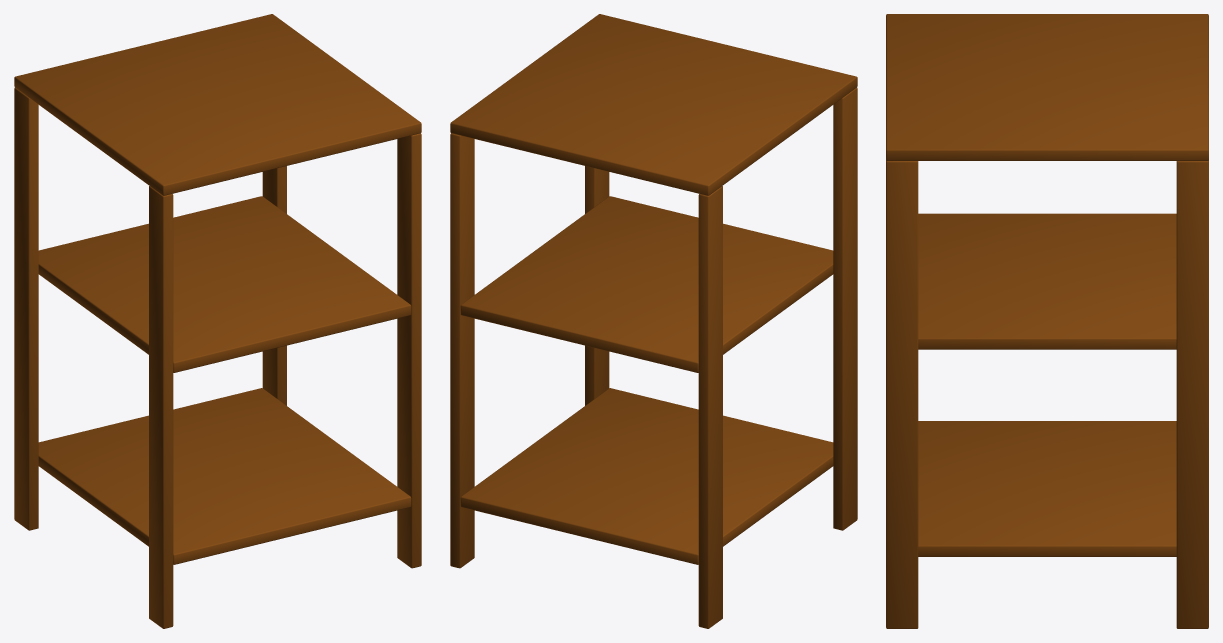
Rendered from тумбацелая.fbx.
3 renders of one model, left to right at view 1: azimuth 30°, elevation 25°; view 2: azimuth 150°, elevation 25°; view 3: azimuth 270°, elevation 25°, orthographic. The views are drawn at different scales.
Parts seen in each view (by area): view 1: Cube.002; view 2: Cube.002; view 3: Cube.002.
Boxes of the visible parts, x1,y1,x2,y2 form: Cube.002: (14, 14, 421, 628); Cube.002: (450, 14, 857, 628); Cube.002: (886, 14, 1208, 628).
Size of the model in its own units: 50 by 82 by 50.
